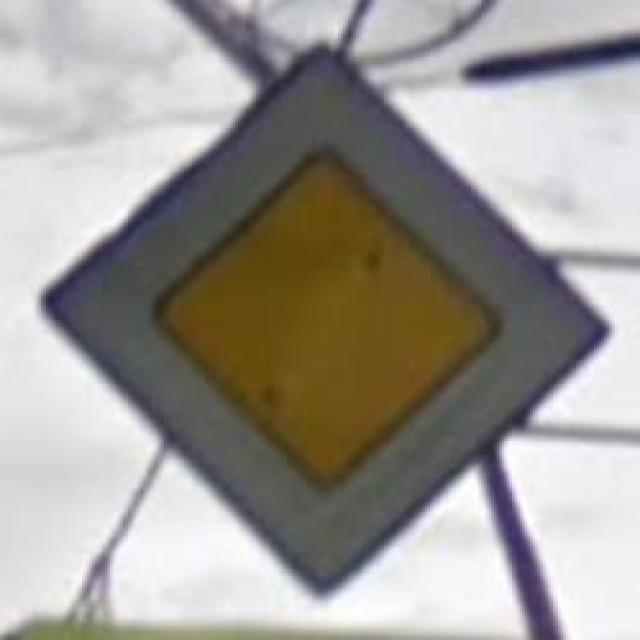traffic_sign: (38, 41, 614, 604)
